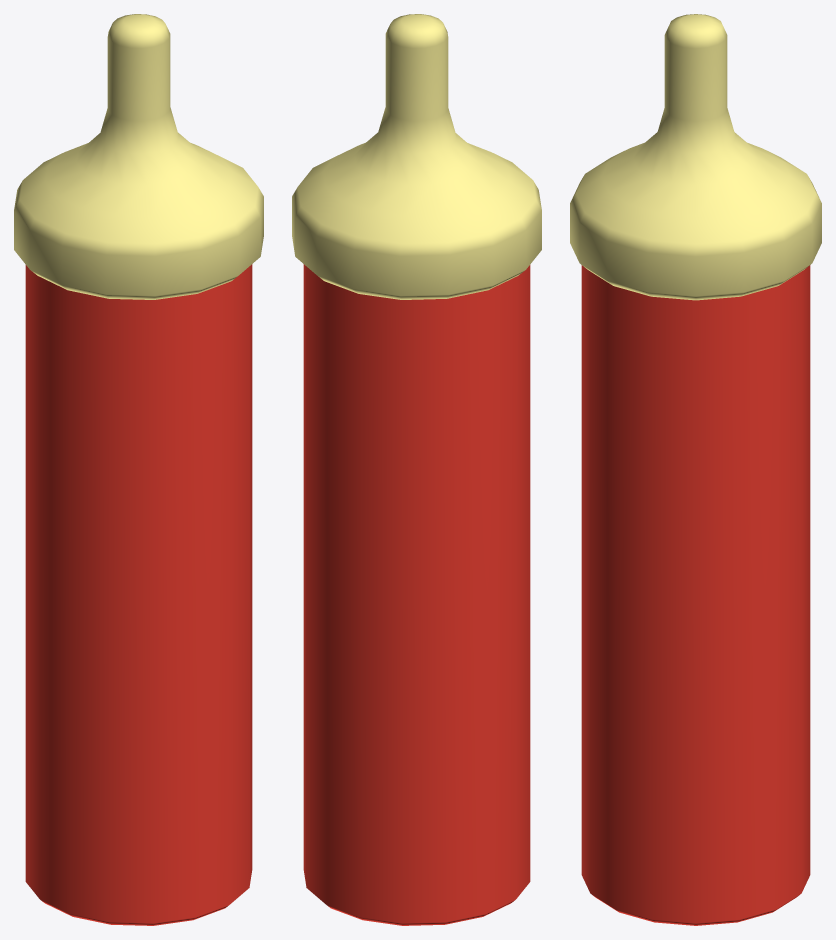
File: City_3_Ketchup_1.glb
The picture shows the model from 3 angles, left to right: view 1: azimuth 30°, elevation 25°; view 2: azimuth 150°, elevation 25°; view 3: azimuth 270°, elevation 25°; orthographic projection.
Parts seen in each view (by area): view 1: City_3_Ketchup_1; view 2: City_3_Ketchup_1; view 3: City_3_Ketchup_1.
Boxes of the visible parts, <box> form: City_3_Ketchup_1: <box>14,14,263,925</box>; City_3_Ketchup_1: <box>292,14,541,925</box>; City_3_Ketchup_1: <box>570,14,821,925</box>.
Size of the model in its own units: 0.1303 by 0.4898 by 0.1303.
1 material, 1 textured.
